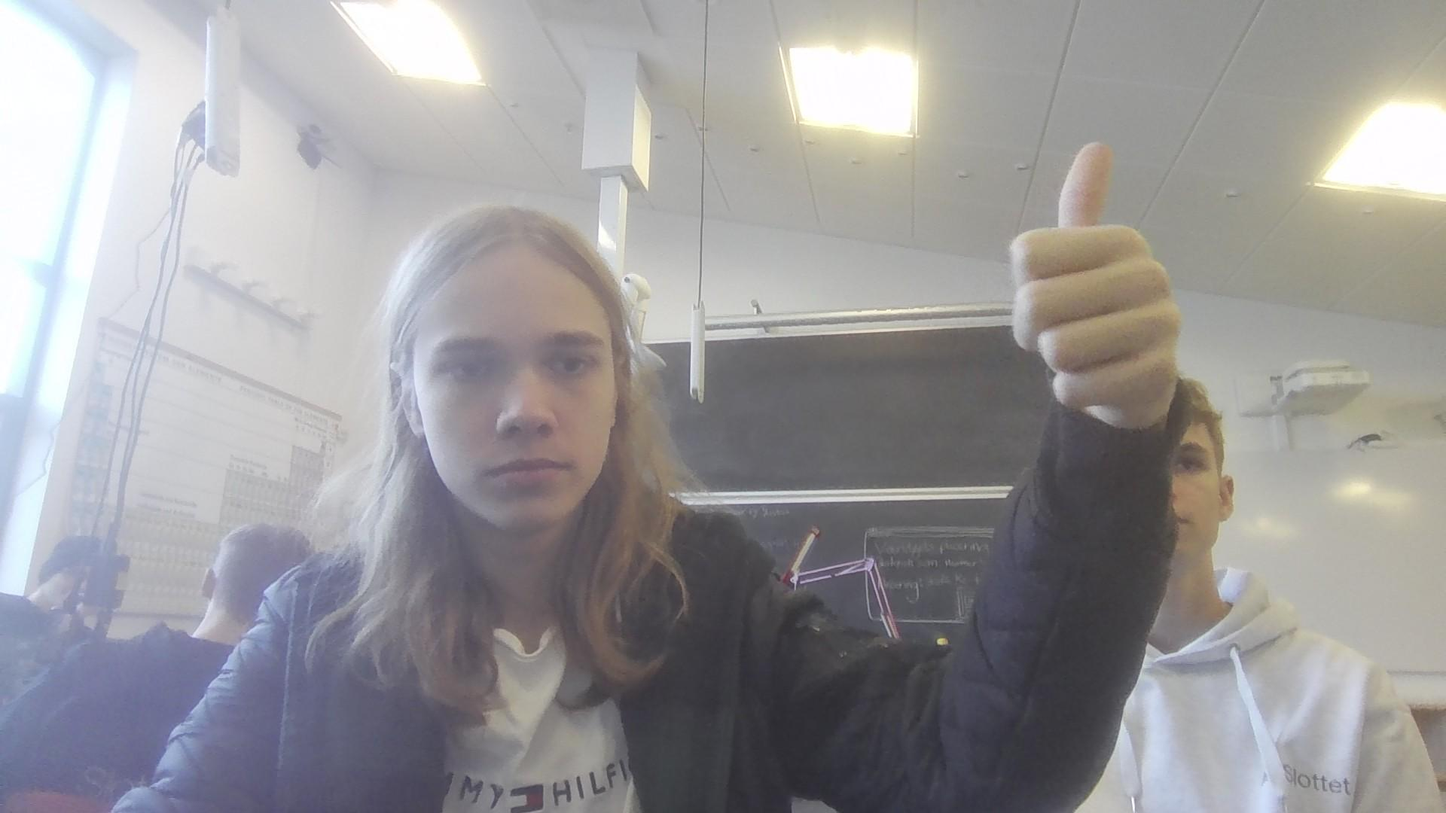thumbs up: (1000, 136, 1179, 445)
